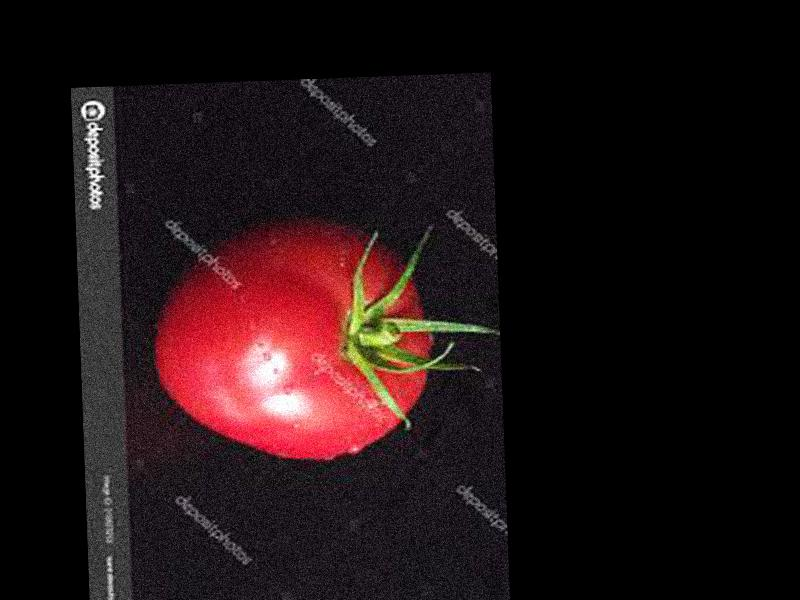Tomato: (151, 215, 435, 465)
